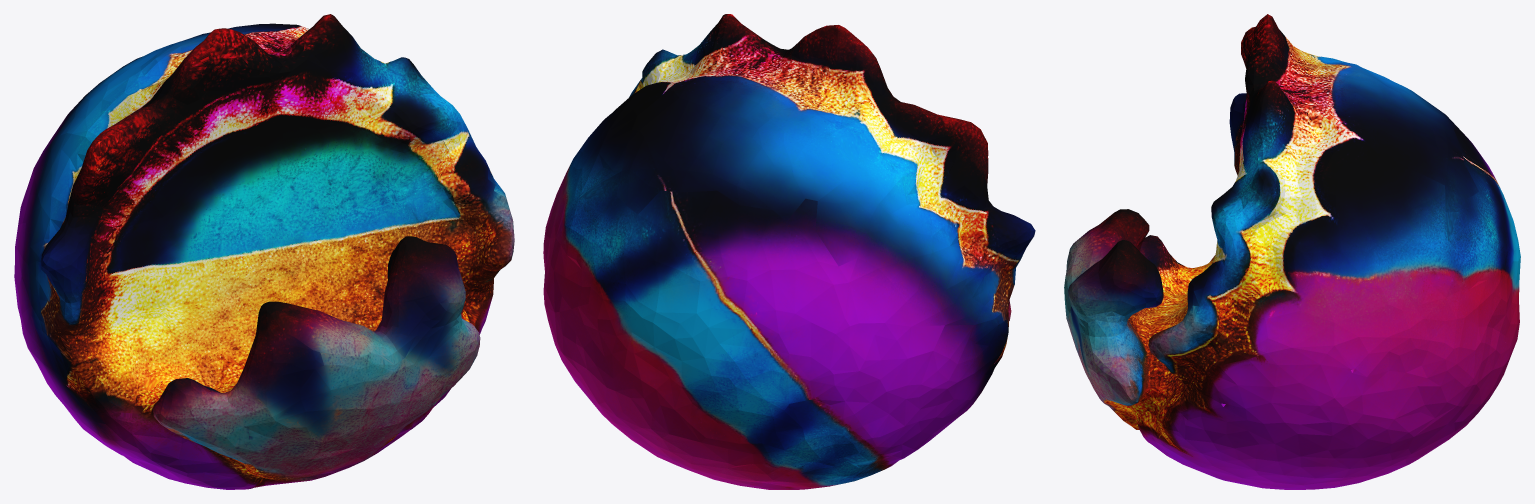
File: object-oriented-stone.glb
3 renders of one model, left to right at view 1: azimuth 30°, elevation 25°; view 2: azimuth 150°, elevation 25°; view 3: azimuth 270°, elevation 25°, orthographic. The views are drawn at different scales.
Visible parts, largest first — view 1: mesh; view 2: mesh; view 3: mesh.
Part boxes in pixels (<box>): mesh: <box>14,14,514,489</box>; mesh: <box>543,14,1035,489</box>; mesh: <box>1064,14,1520,489</box>.
Bounding box in the file's own units: 1.91 × 1.84 × 1.77.
1 material, 1 textured.
